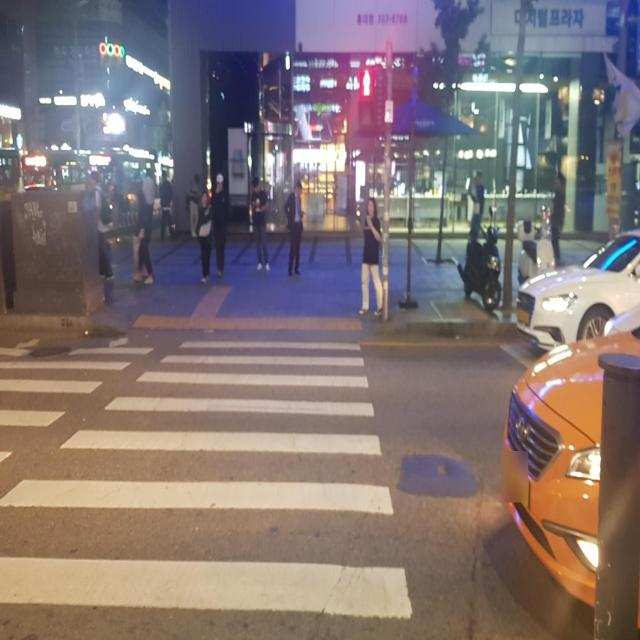빨간불: (359, 66, 375, 130)
횡단보도: (0, 333, 415, 624)
